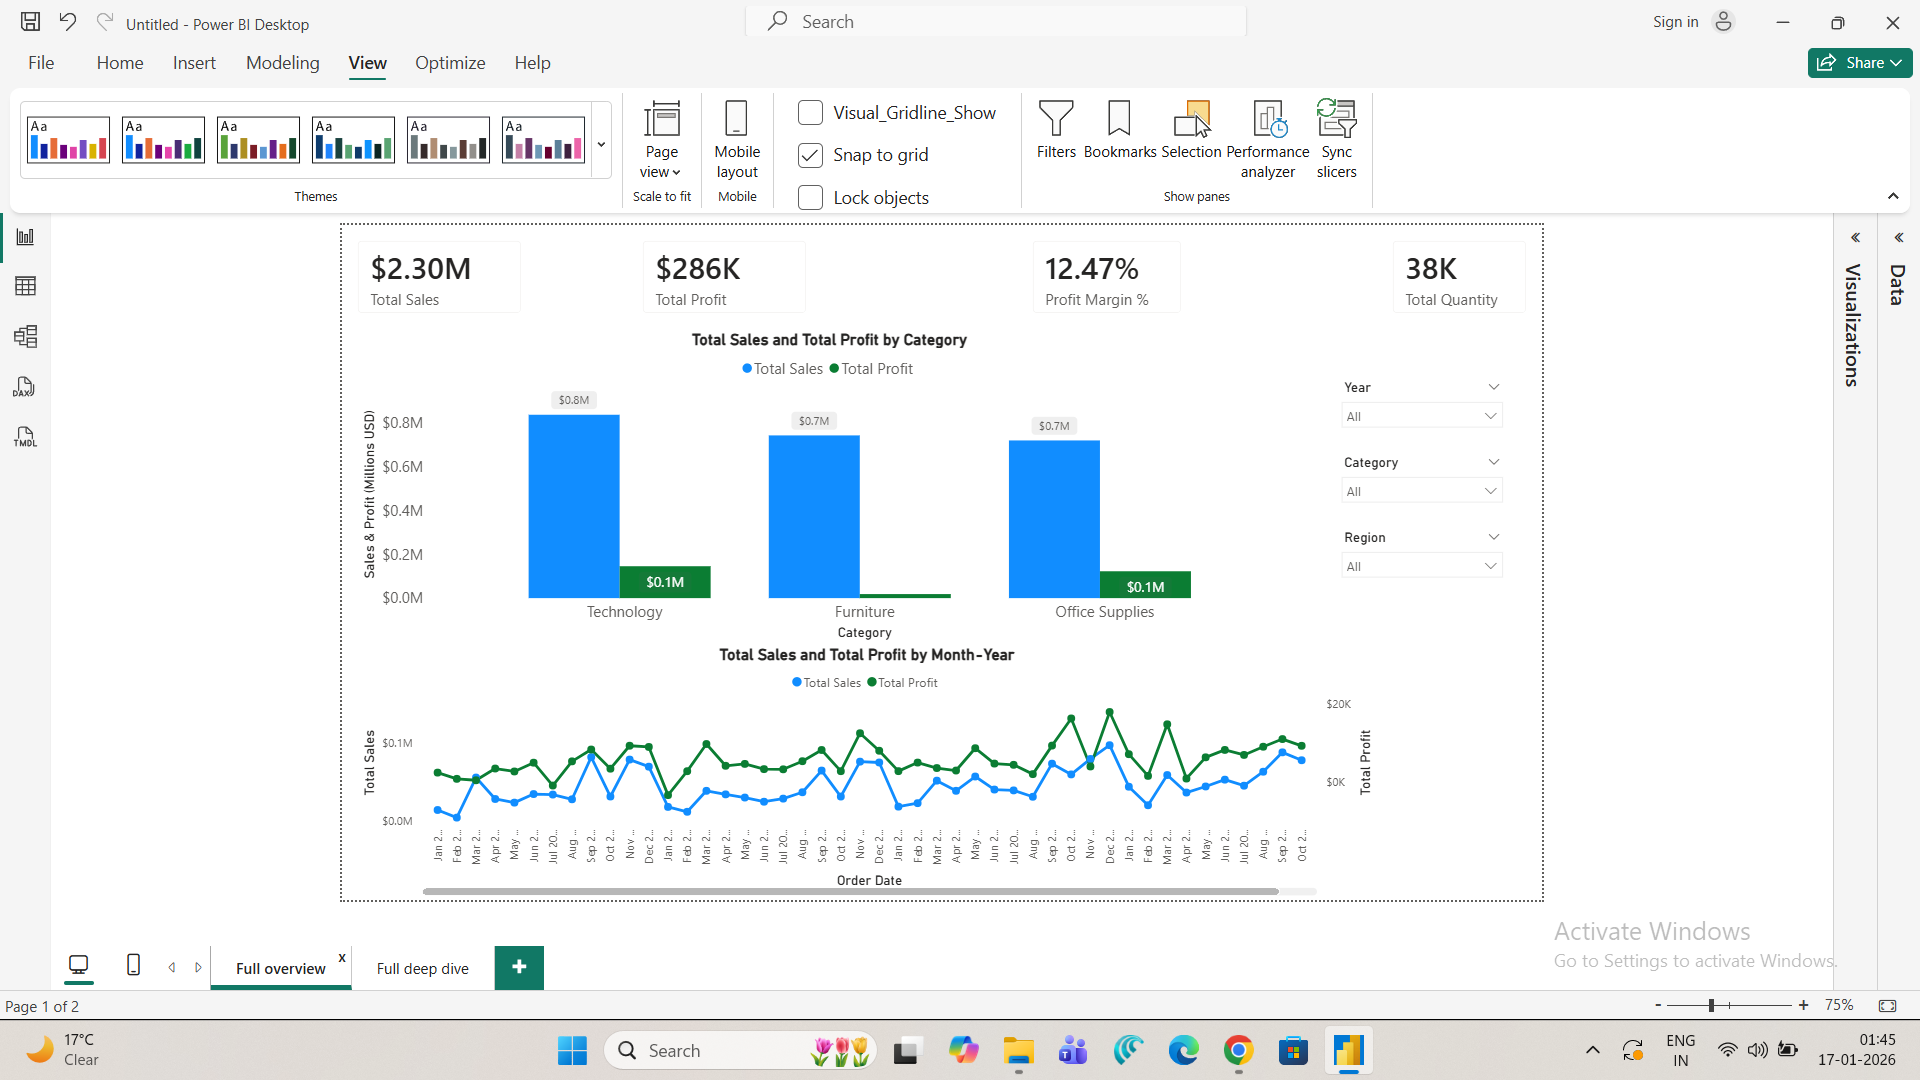

This screenshot's page, from the dashboard's own definition file:
{"tool":"powerbi","page":{"name":"Full overview","canvas":[1280,720],"ordinal":0},"visuals":[{"type":"cardVisual","fields":{"Data":["Sample - Superstore.Total Sales"]},"box":[0,0,208,112],"z":0},{"type":"cardVisual","fields":{"Data":["Sample - Superstore.Total Profit"]},"box":[304,0,208,112],"z":1000},{"type":"cardVisual","fields":{"Data":["Sample - Superstore.Profit Margin %"]},"box":[720,0,192,112],"z":2000},{"type":"cardVisual","fields":{"Data":["Sample - Superstore.Total Quantity"]},"box":[1104,0,176,112],"z":3000},{"type":"clusteredColumnChart","fields":{"Category":["Sample - Superstore.Category"],"Y":["Sample - Superstore.Total Sales","Sample - Superstore.Total Profit"]},"box":[16,112,1008,336],"z":4000},{"type":"lineChart","title":"Total Sales and Total Profit by Month-Year","fields":{"Y":["Sample - Superstore.Total Sales"],"Y2":["Sample - Superstore.Total Profit"],"Category":["Sample - Superstore.Month Year"]},"box":[16,448,1088,272],"z":5000},{"type":"slicer","fields":{"Values":["Sample - Superstore.Order Date.Variation.Date Hierarchy.Year"]},"box":[1056,160,192,80],"z":6000},{"type":"slicer","fields":{"Values":["Sample - Superstore.Category"]},"box":[1056,240,192,80],"z":7000},{"type":"slicer","fields":{"Values":["Sample - Superstore.Region"]},"box":[1056,320,192,80],"z":8000}]}

Visuals, with their boxes on the page's 1280x720 design canvas (x1, y1, x2, y2). These are canvas units, not pixel positions in the 1920x1080 screenshot, which may show the page scaled, cropped or inside an application window:
cardVisual - Sample - Superstore.Total Sales: (left=0, top=0, right=208, bottom=112)
cardVisual - Sample - Superstore.Total Profit: (left=304, top=0, right=512, bottom=112)
cardVisual - Sample - Superstore.Profit Margin %: (left=720, top=0, right=912, bottom=112)
cardVisual - Sample - Superstore.Total Quantity: (left=1104, top=0, right=1280, bottom=112)
clusteredColumnChart - Sample - Superstore.Category x Sample - Superstore.Total Sales: (left=16, top=112, right=1024, bottom=448)
"Total Sales and Total Profit by Month-Year" lineChart: (left=16, top=448, right=1104, bottom=720)
slicer - Sample - Superstore.Order Date.Variation.Date Hierarchy.Year: (left=1056, top=160, right=1248, bottom=240)
slicer - Sample - Superstore.Category: (left=1056, top=240, right=1248, bottom=320)
slicer - Sample - Superstore.Region: (left=1056, top=320, right=1248, bottom=400)
